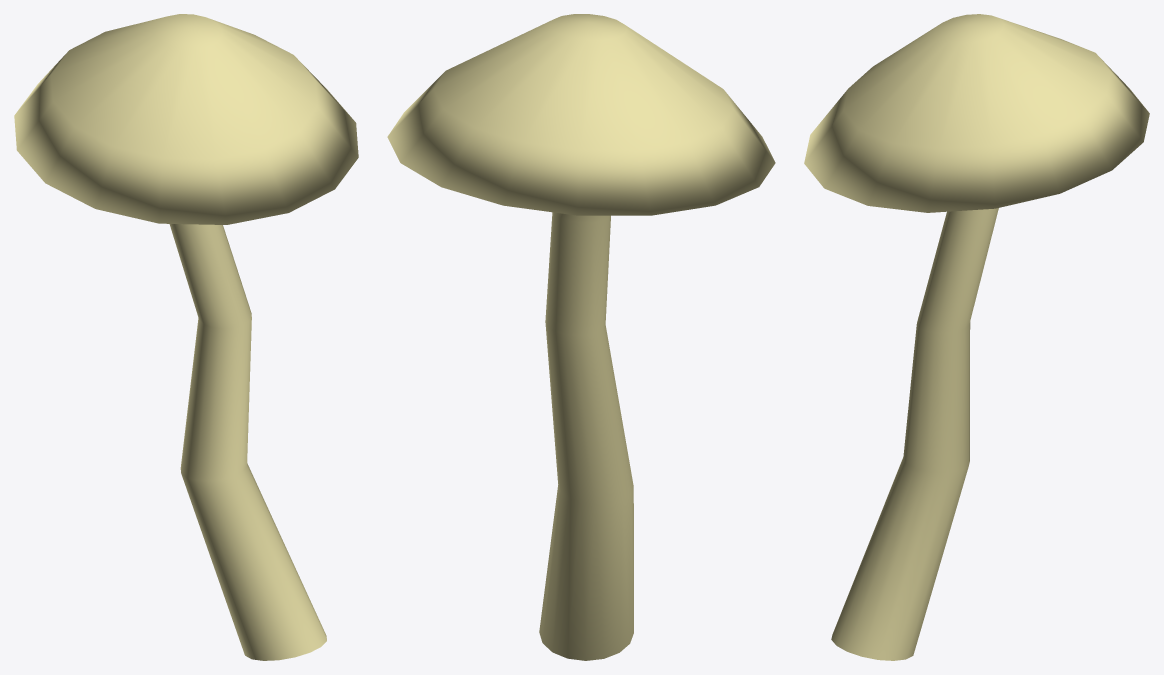
Rendered from mushrooms03.fbx.
3 renders of one model, left to right at view 1: azimuth 30°, elevation 25°; view 2: azimuth 150°, elevation 25°; view 3: azimuth 270°, elevation 25°, orthographic. The views are drawn at different scales.
Visible parts, largest first — view 1: Cylinder.015; view 2: Cylinder.015; view 3: Cylinder.015.
Part boxes in pixels (x1=…): Cylinder.015: x1=14, y1=14, x2=358, y2=660; Cylinder.015: x1=387, y1=14, x2=775, y2=660; Cylinder.015: x1=804, y1=14, x2=1149, y2=660.
Size of the model in its own units: 23.55 by 45.11 by 23.41.
